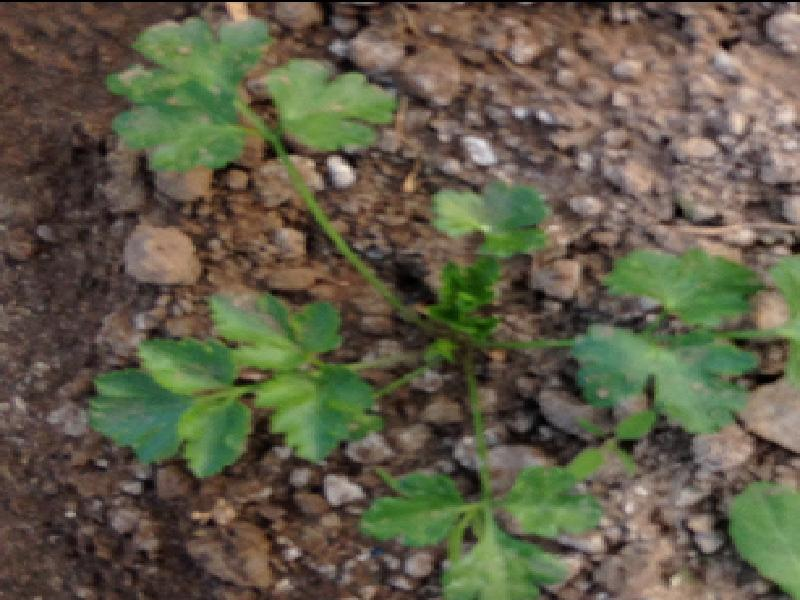radish: (18, 0, 800, 536)
